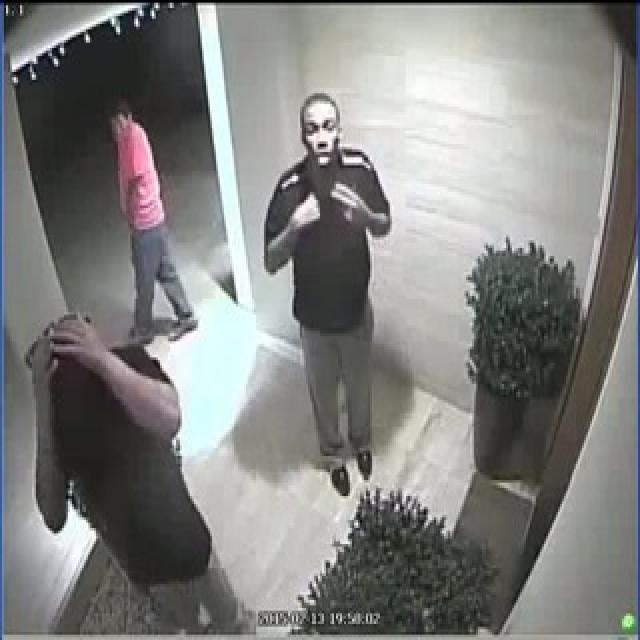thief: (11, 342, 240, 636), (263, 91, 392, 486), (102, 92, 196, 343)
